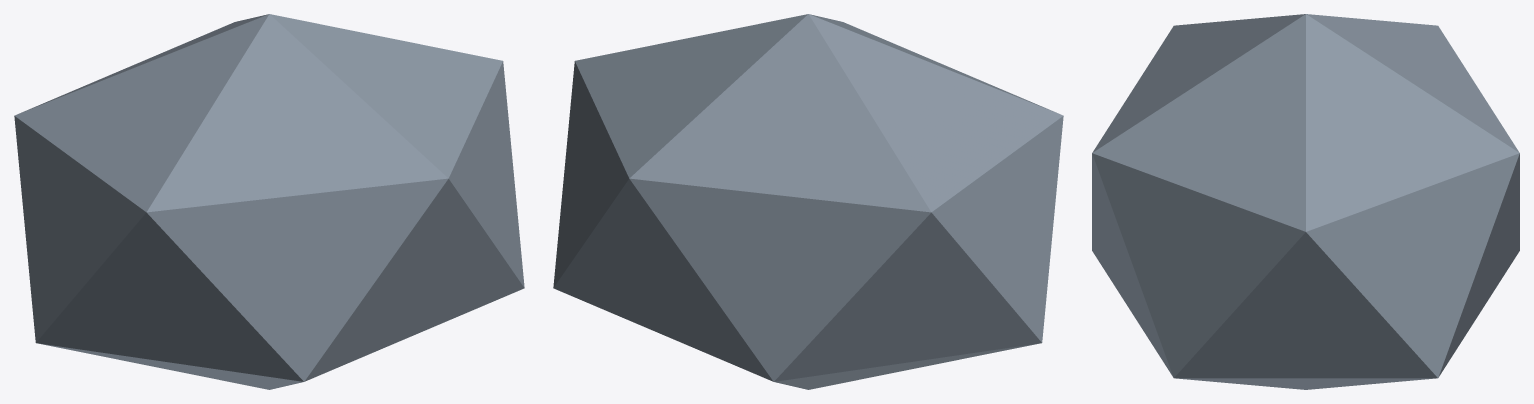
File: SM_ENV_Rock_001_Small.glb
3 views of the same model, side by side, from view 1: azimuth 30°, elevation 25°; view 2: azimuth 150°, elevation 25°; view 3: azimuth 270°, elevation 25° (orthographic).
Visible parts, largest first — view 1: SM_ENV_Rock_001_Small; view 2: SM_ENV_Rock_001_Small; view 3: SM_ENV_Rock_001_Small.
Boxes of the visible parts, x1=… form: SM_ENV_Rock_001_Small: x1=14, y1=14, x2=524, y2=389; SM_ENV_Rock_001_Small: x1=553, y1=14, x2=1063, y2=389; SM_ENV_Rock_001_Small: x1=1092, y1=14, x2=1519, y2=389.
Bounding box in the file's own units: 0.8586 × 0.66 × 0.6805.
